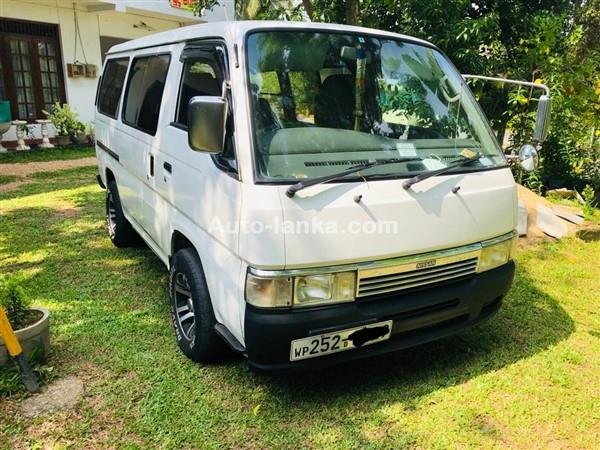van: (93, 19, 517, 374)
